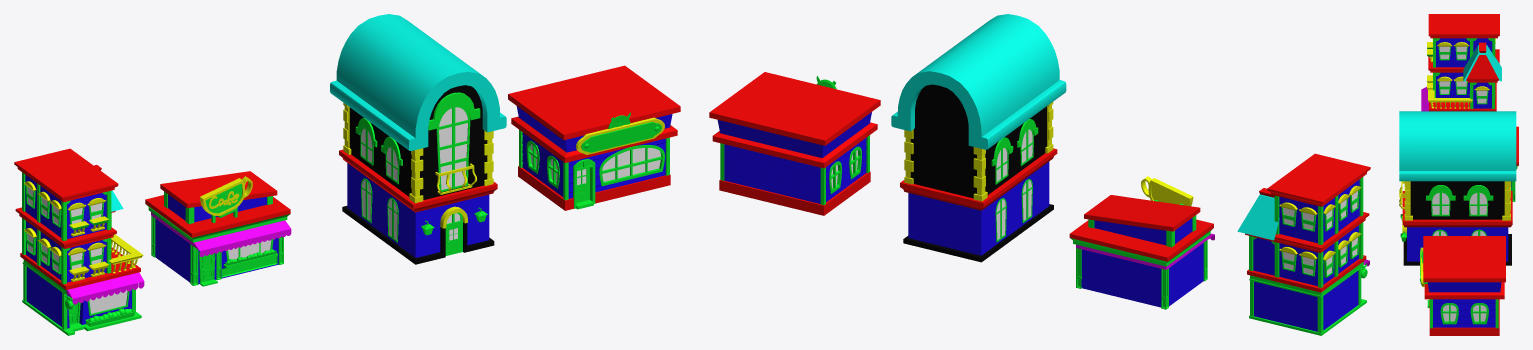
Rendered from dummy_bhm 1.fbx.
The picture shows the model from 3 angles, left to right: view 1: azimuth 30°, elevation 25°; view 2: azimuth 150°, elevation 25°; view 3: azimuth 270°, elevation 25°; orthographic projection. The views are drawn at different scales.
Visible parts, largest first — view 1: round_shaped_house, restaurant, House_3, House_5; view 2: round_shaped_house, restaurant, House_3, House_5; view 3: round_shaped_house, restaurant, House_3, House_5.
Boxes of the visible parts, bbox=[...] form: round_shaped_house: bbox=[330, 14, 506, 264]; restaurant: bbox=[508, 65, 680, 210]; House_3: bbox=[14, 148, 144, 335]; House_5: bbox=[145, 171, 291, 286]; round_shaped_house: bbox=[891, 14, 1066, 262]; restaurant: bbox=[709, 72, 880, 215]; House_3: bbox=[1237, 153, 1370, 335]; House_5: bbox=[1069, 176, 1214, 309]; round_shaped_house: bbox=[1399, 111, 1516, 265]; restaurant: bbox=[1419, 236, 1505, 335]; House_3: bbox=[1421, 14, 1501, 111]; House_5: bbox=[1510, 126, 1518, 201].
Size of the model in its own units: 3497 by 1009 by 796.
